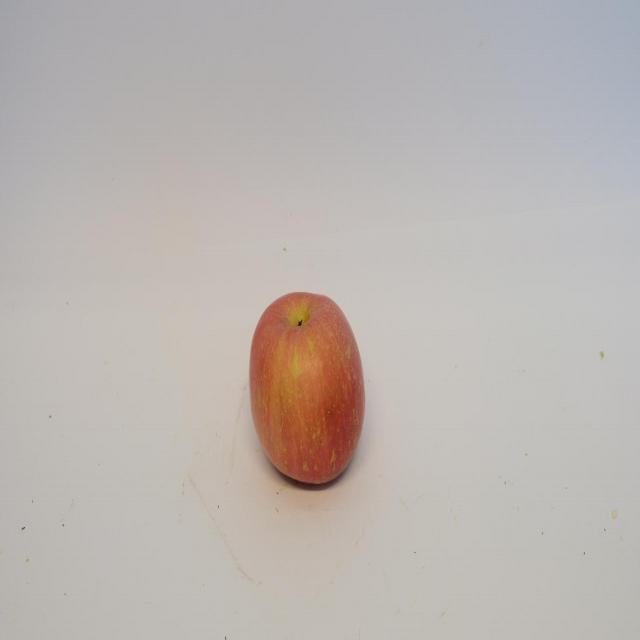apple: (249, 290, 366, 487)
